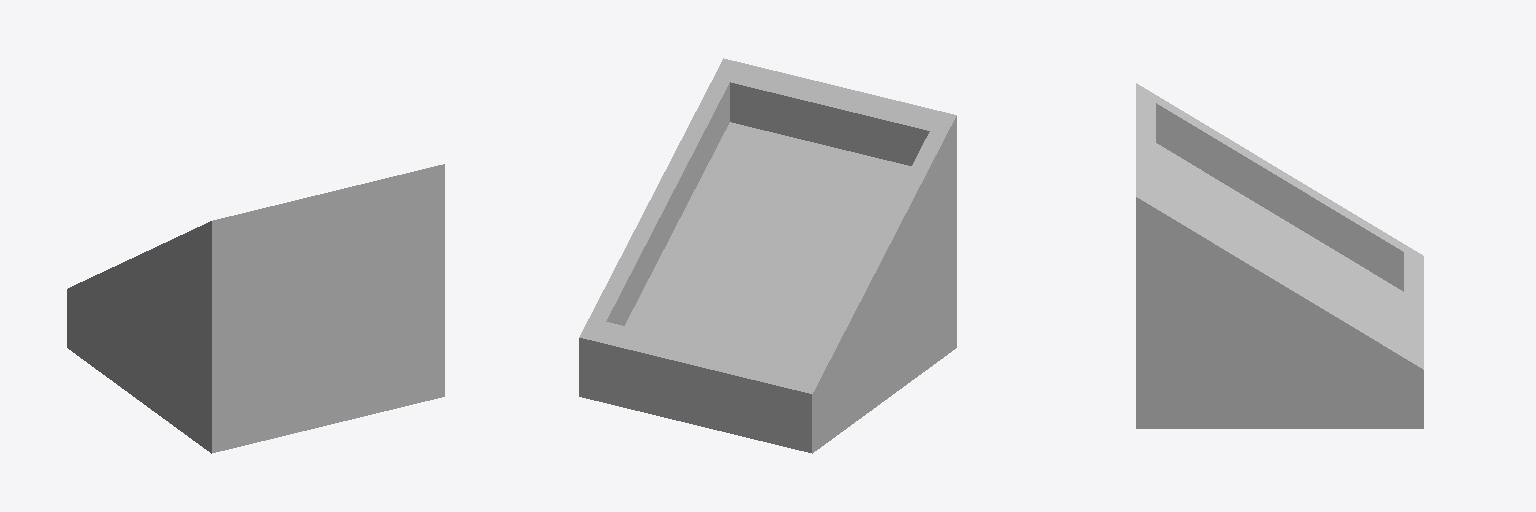
File: stands_full.obj
The picture shows the model from 3 angles: view 1: azimuth 30°, elevation 25°; view 2: azimuth 150°, elevation 25°; view 3: azimuth 270°, elevation 25°; orthographic projection.
Parts seen in each view (by area): view 1: Plane; view 2: Plane; view 3: Plane.
Part boxes in pixels (x1,y1,x2,y2): Plane: (67, 164, 444, 453); Plane: (579, 58, 956, 453); Plane: (1136, 83, 1423, 428).
Bounding box in the file's own units: 70 × 66.75 × 75.